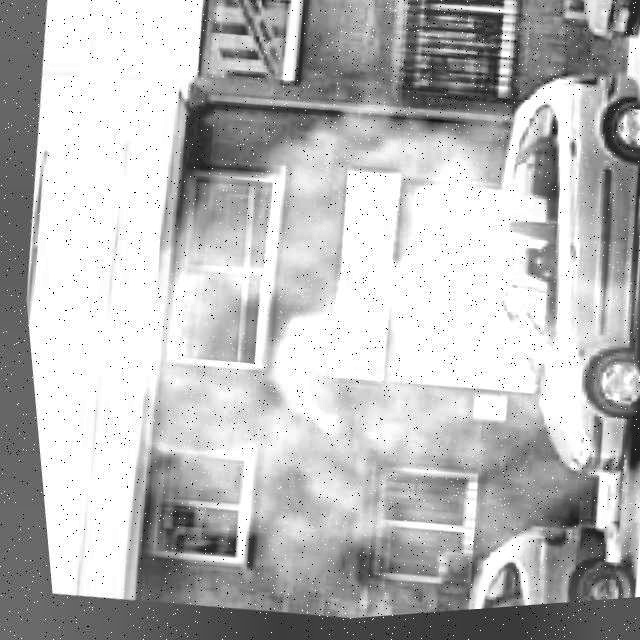Smoke: (79, 54, 640, 619)
